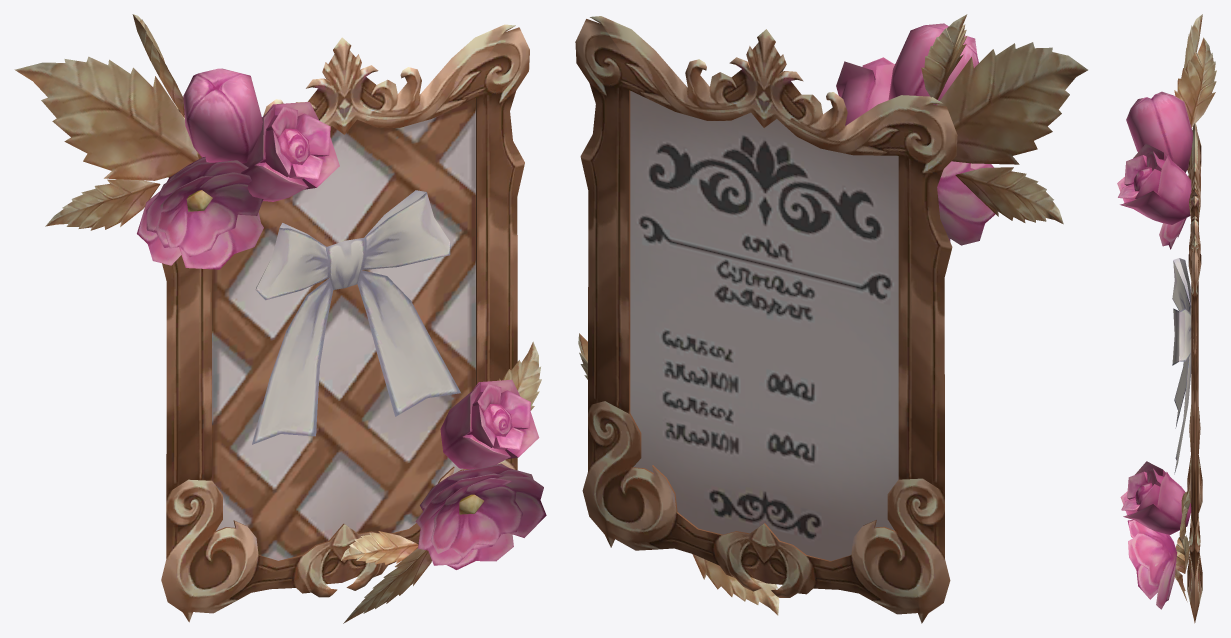
File: Hero_Veronica_Cos20_Wedding_Weapon_L.fbx
3 views of the same model, side by side, from view 1: azimuth 30°, elevation 25°; view 2: azimuth 150°, elevation 25°; view 3: azimuth 270°, elevation 25° (orthographic). The views are drawn at different scales.
Parts seen in each view (by area): view 1: Hero_Veronica_Cos20_Wedding_Weapon_L; view 2: Hero_Veronica_Cos20_Wedding_Weapon_L; view 3: Hero_Veronica_Cos20_Wedding_Weapon_L.
Part boxes in pixels (x1=…): Hero_Veronica_Cos20_Wedding_Weapon_L: x1=14, y1=14, x2=546, y2=623; Hero_Veronica_Cos20_Wedding_Weapon_L: x1=575, y1=14, x2=1087, y2=623; Hero_Veronica_Cos20_Wedding_Weapon_L: x1=1117, y1=14, x2=1216, y2=623.
Size of the model in its own units: 0.349 by 0.4214 by 0.0791.
1 material, 1 textured.
